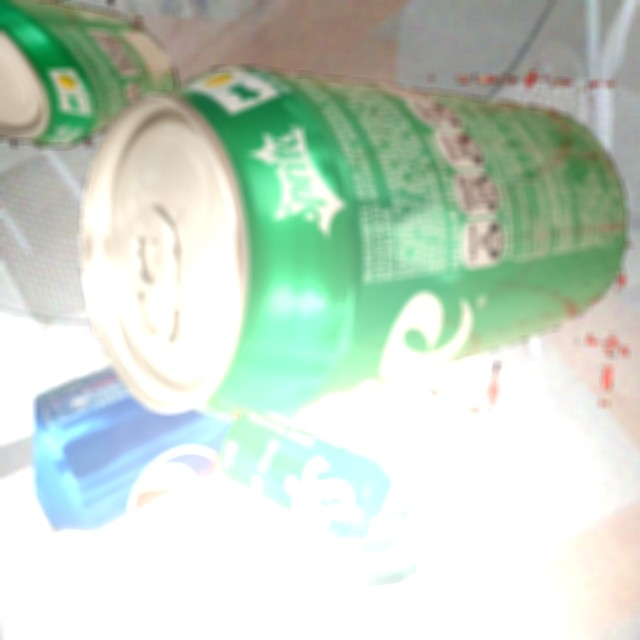pepsi: (34, 301, 294, 536)
schweppes: (240, 493, 431, 618)
sprite: (75, 53, 637, 428), (0, 0, 221, 215), (205, 413, 395, 551)
